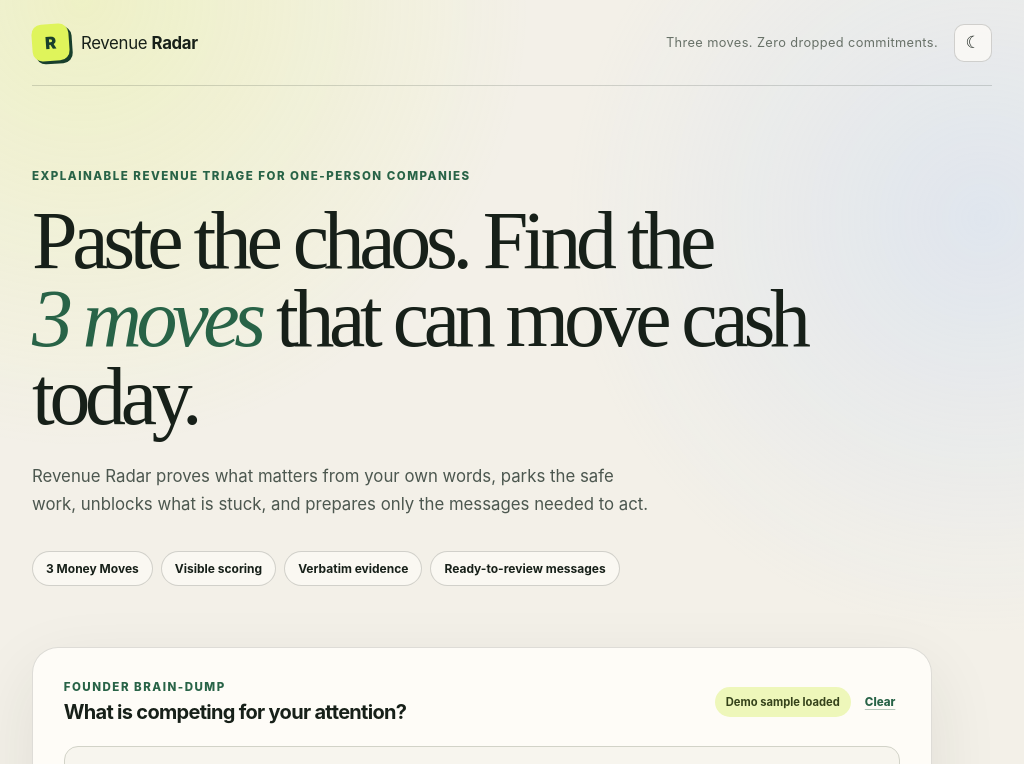
intake affordances › clears the textarea without sending a request or imposing a hard maximum
Step 1. Click the button "Clear" → (880, 702), box [860, 685, 900, 718]
(page scrolled)
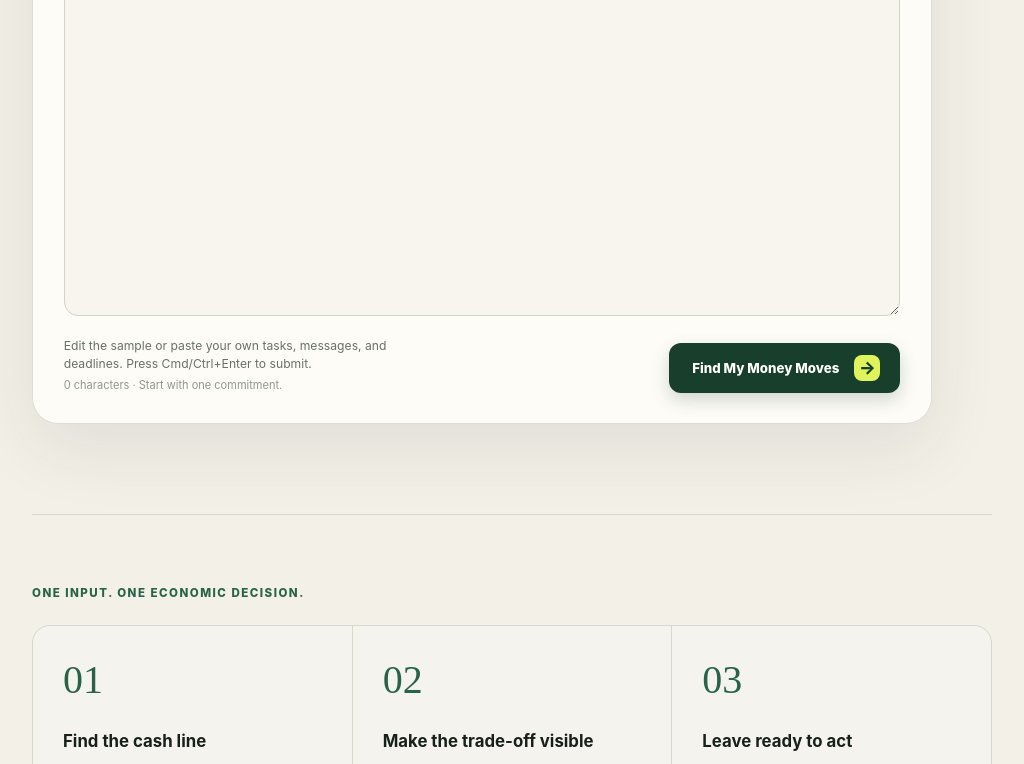
Check: the text "Demo sample loaded" is gone
